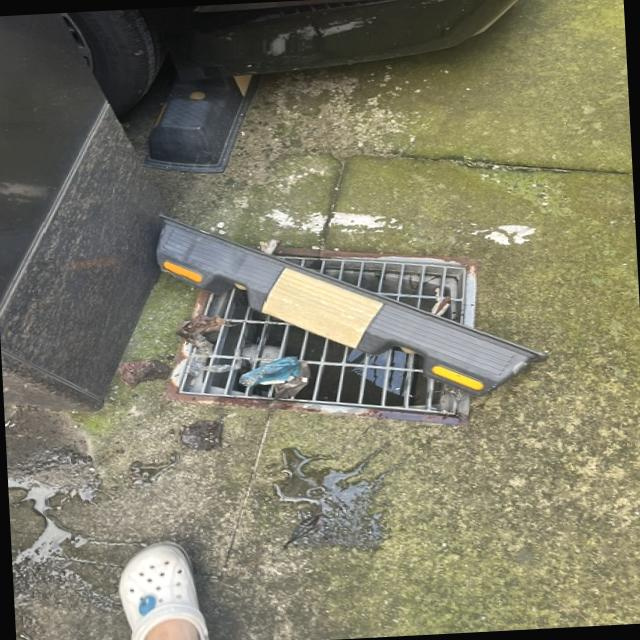drain_area: (181, 290, 461, 414), (273, 256, 465, 324)
drain_full: (179, 253, 466, 416)
